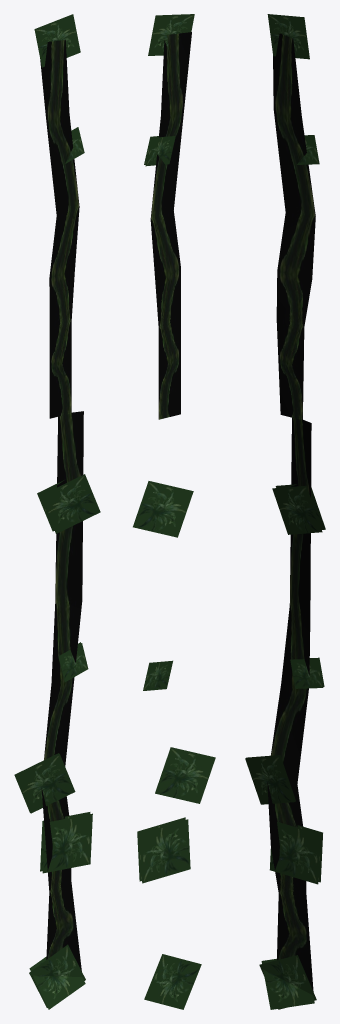
Rendered from jungle_vine_a_200.fbx.
The picture shows the model from 3 angles, left to right: view 1: azimuth 30°, elevation 25°; view 2: azimuth 210°, elevation 25°; view 3: azimuth 330°, elevation 25°; orthographic projection.
Parts seen in each view (by area): view 1: vine, vine1, pPlane20, pPlane15, pPlane21, pPlane18, pPlane17, pPlane26, pPlane12, pPlane16, pPlane14; view 2: vine1, pPlane14, pPlane23, pPlane21, pPlane26, pPlane25, pPlane22, pPlane16, pPlane20; view 3: vine, vine1, pPlane20, pPlane15, pPlane21, pPlane18, pPlane17, pPlane26, pPlane12, pPlane16, pPlane23, pPlane14.
Part boxes in pixels (x1,y1,x2,y2): vine: [41, 411, 83, 971]; vine1: [40, 40, 79, 418]; pPlane20: [42, 813, 92, 873]; pPlane15: [40, 474, 100, 533]; pPlane21: [15, 753, 75, 813]; pPlane18: [34, 14, 80, 67]; pPlane17: [29, 956, 85, 1009]; pPlane26: [29, 944, 85, 1007]; pPlane12: [58, 643, 88, 682]; pPlane16: [65, 127, 84, 163]; pPlane14: [40, 812, 90, 871]; vine1: [150, 32, 191, 419]; pPlane14: [140, 819, 190, 883]; pPlane23: [133, 481, 193, 537]; pPlane21: [155, 747, 215, 803]; pPlane26: [144, 954, 201, 1009]; pPlane25: [148, 14, 194, 55]; pPlane22: [143, 660, 172, 690]; pPlane16: [145, 136, 175, 166]; pPlane20: [137, 817, 185, 881]; vine: [267, 417, 313, 991]; vine1: [273, 33, 315, 419]; pPlane20: [269, 821, 320, 884]; pPlane15: [272, 485, 322, 534]; pPlane21: [245, 755, 295, 804]; pPlane18: [267, 14, 309, 59]; pPlane17: [261, 958, 314, 1009]; pPlane26: [259, 955, 316, 1009]; pPlane12: [290, 658, 323, 688]; pPlane16: [297, 135, 319, 164]; pPlane23: [275, 484, 325, 529]; pPlane14: [297, 825, 322, 882].
Bounding box in the file's own units: 1843 × 21438 × 380.
1 material, 1 textured.
